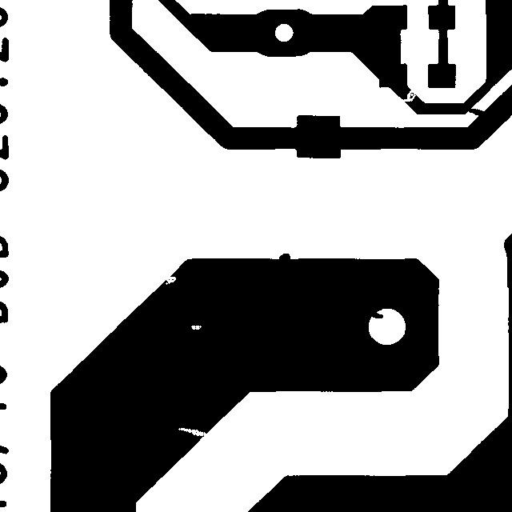mousebite: (170, 420, 214, 443), (158, 269, 183, 292)
open: (393, 82, 423, 109)
pin-hole: (183, 318, 209, 337)
short: (455, 99, 498, 124)
spur: (362, 303, 390, 326), (271, 246, 298, 267)
